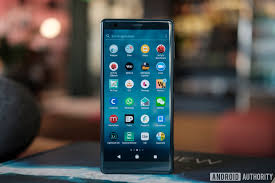htc: (97, 14, 176, 175)
